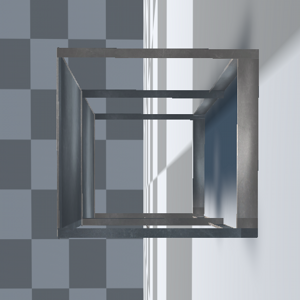Rack: (39, 59, 247, 253)
